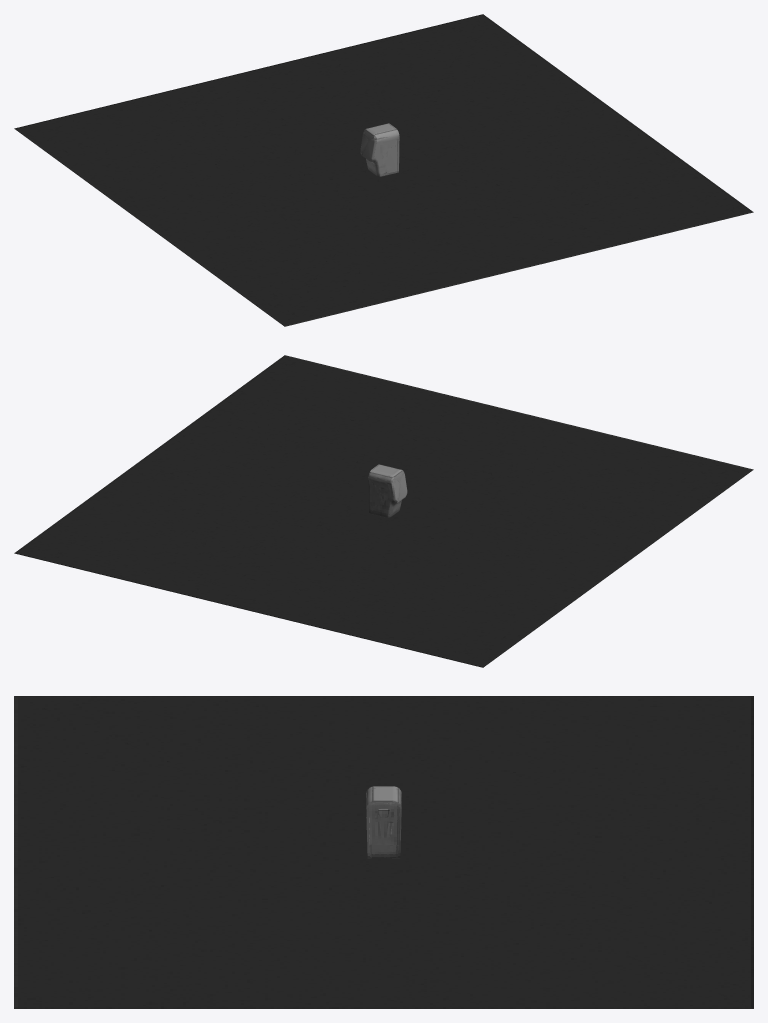
The model's file is twin_tub.glb.
The picture shows the model from 3 angles, top to bottom: view 1: azimuth 30°, elevation 25°; view 2: azimuth 150°, elevation 25°; view 3: azimuth 270°, elevation 25°; orthographic projection. The views are drawn at different scales.
Parts seen in each view (by area): view 1: mesh; view 2: mesh; view 3: mesh.
Part boxes in pixels (left/top/right/bottom): mesh: left=14, top=14, right=753, bottom=326; mesh: left=14, top=355, right=753, bottom=667; mesh: left=14, top=696, right=753, bottom=1008.
Bounding box in the file's own units: 10.76 × 0.9245 × 10.76.
Materials: 1 (1 with a texture image).
